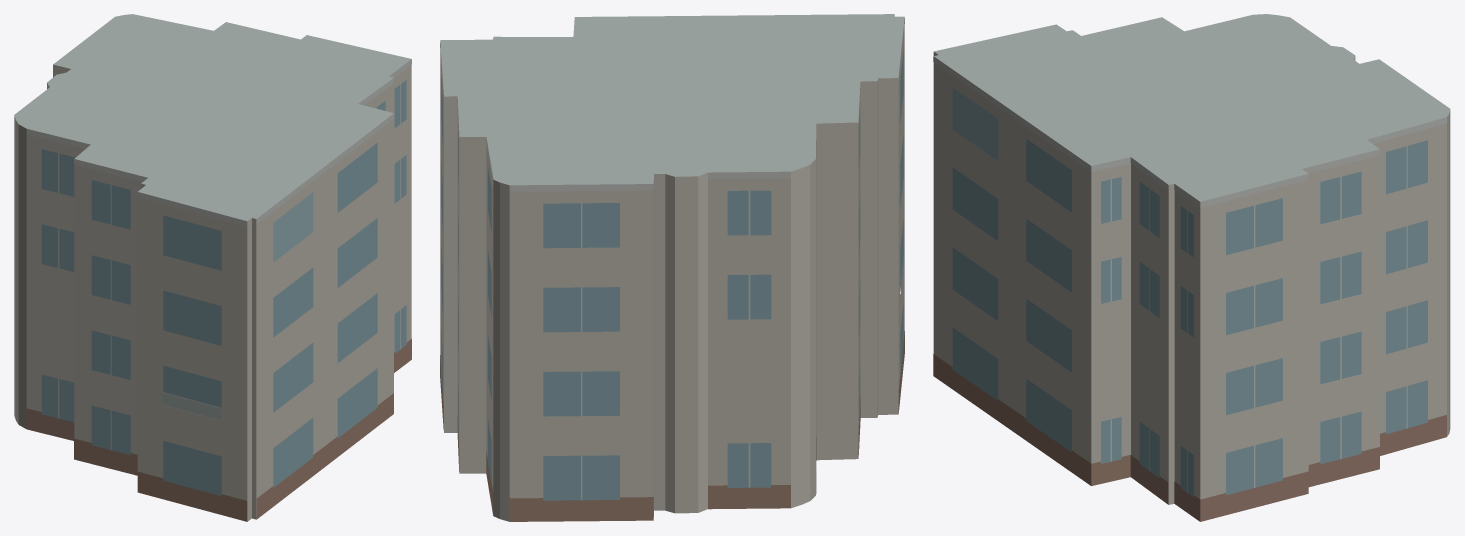
File: survey-upis-32575006.glb
3 renders of one model, left to right at view 1: azimuth 30°, elevation 25°; view 2: azimuth 150°, elevation 25°; view 3: azimuth 270°, elevation 25°, orthographic. The views are drawn at different scales.
Parts seen in each view (by area): view 1: survey-upis-32575006.tmp; view 2: survey-upis-32575006.tmp; view 3: survey-upis-32575006.tmp.
Part boxes in pixels (x1,y1,x2,y2): survey-upis-32575006.tmp: (14, 14, 411, 521); survey-upis-32575006.tmp: (440, 14, 904, 521); survey-upis-32575006.tmp: (933, 14, 1450, 521).
Size of the model in its own units: 16 by 12.7 by 18.6.
